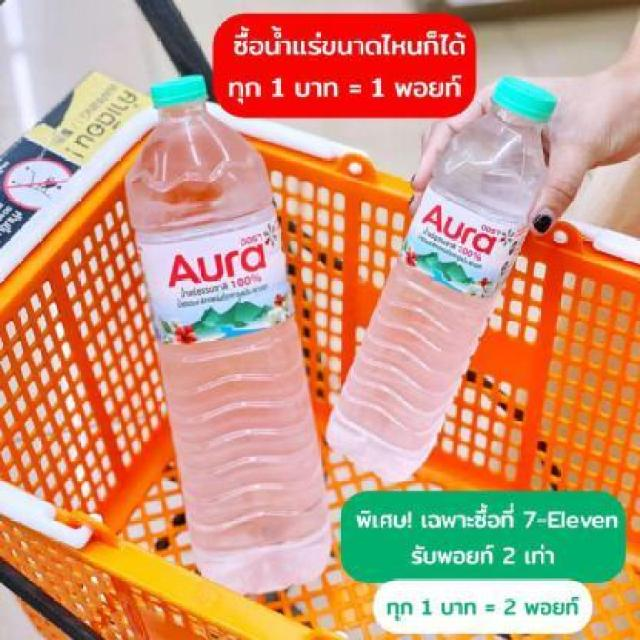bottle: (122, 68, 334, 596), (323, 63, 565, 500)
